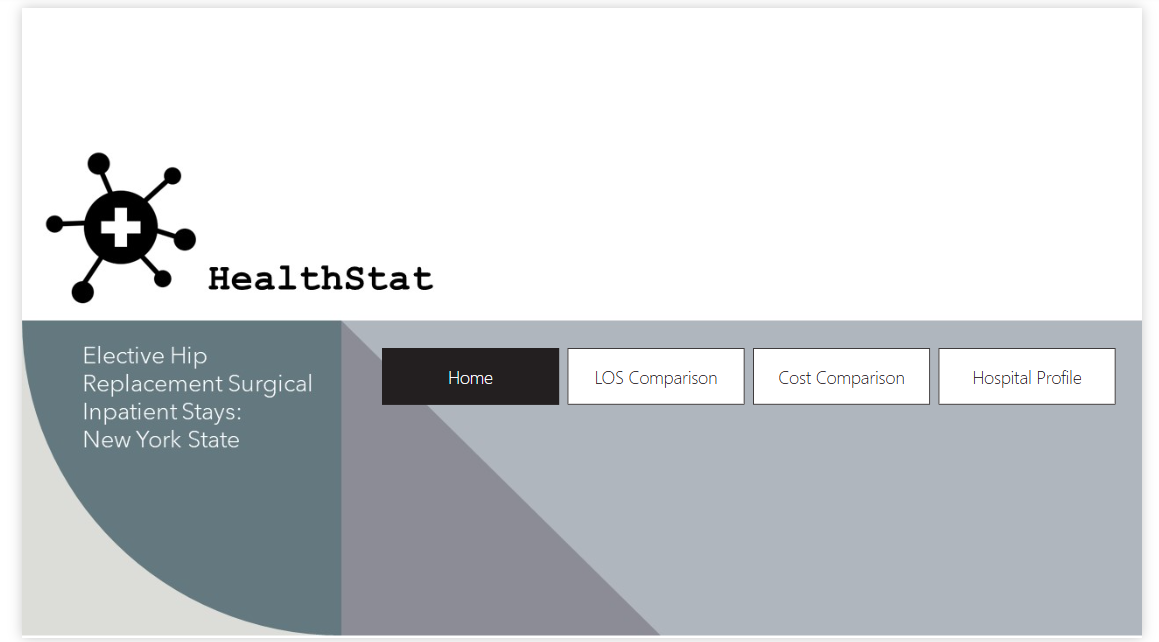

The dashboard page shown, as its layout file describes it:
{"tool":"powerbi","page":{"name":"Home","canvas":[1280,720],"ordinal":0},"visuals":[{"type":"pageNavigator","box":[411.1,388.9,838.1,65.1],"z":0}]}

Visuals, with their boxes in screenshot pixels (x1, y1, x2, y2), scaled from the page's 1280x720 canvas onto the 1159x642 screenshot:
pageNavigator: <region>372, 347, 1131, 405</region>
